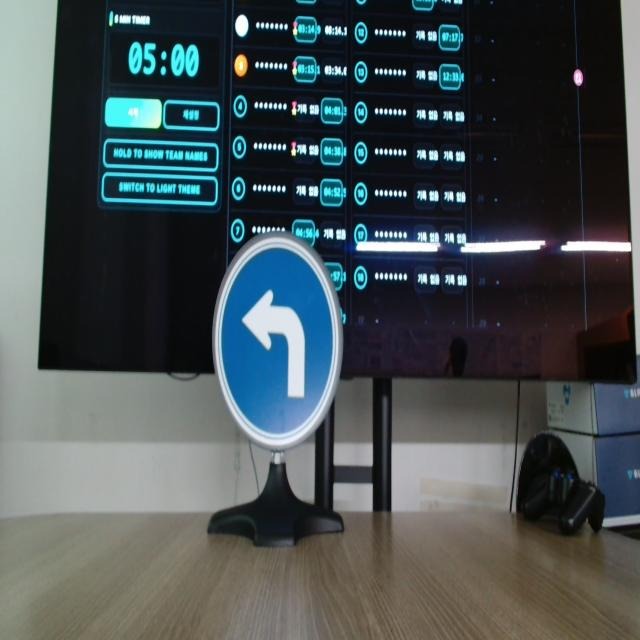left_direction: (204, 231, 354, 458)
